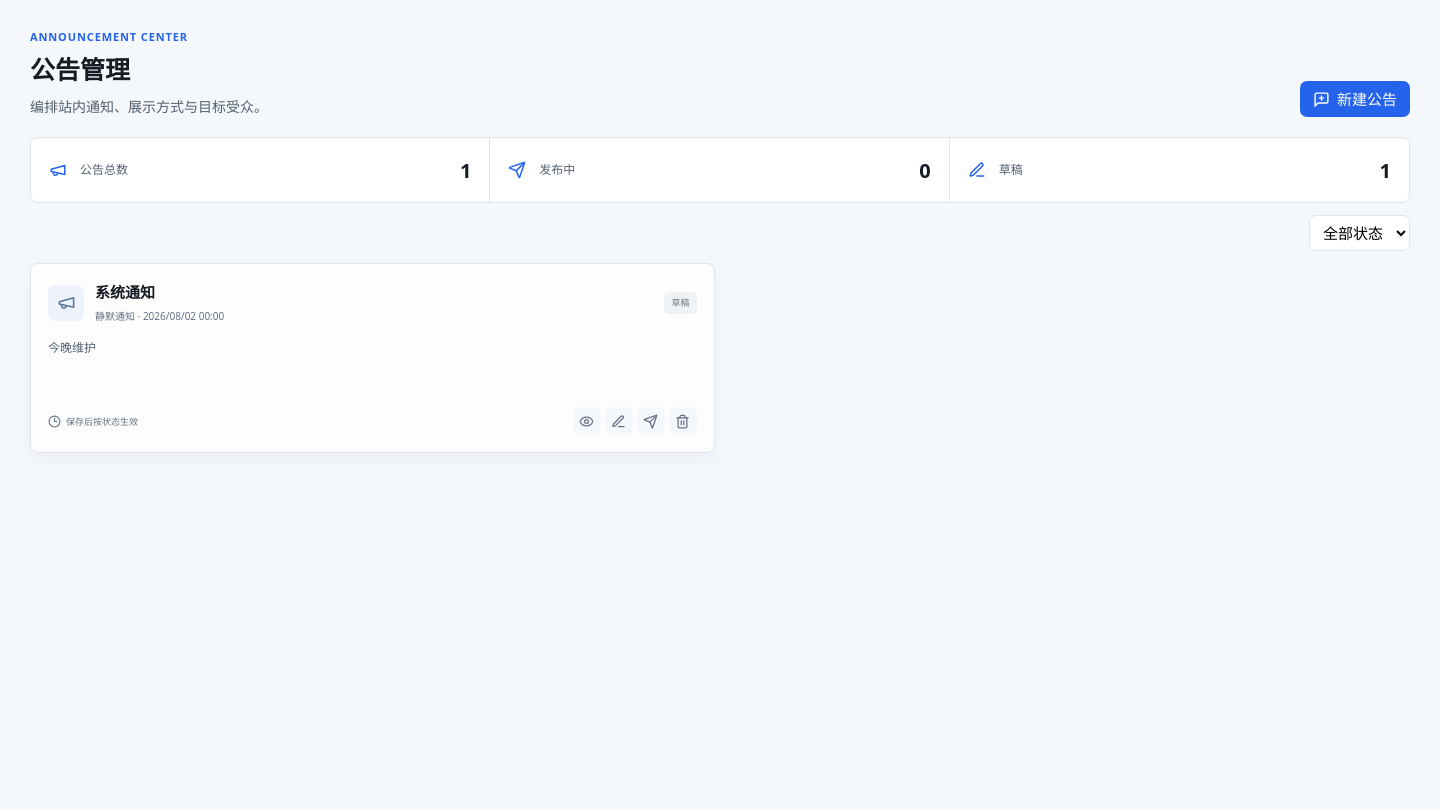
Test case: AdminAnnouncementsView › keeps the editor open and exposes a failed save inline and by toast
The width and height of the screenshot is (1440, 810).
Click the button with test id "create-announcement".
click(1355, 100)  # box [1300,82,1410,118]
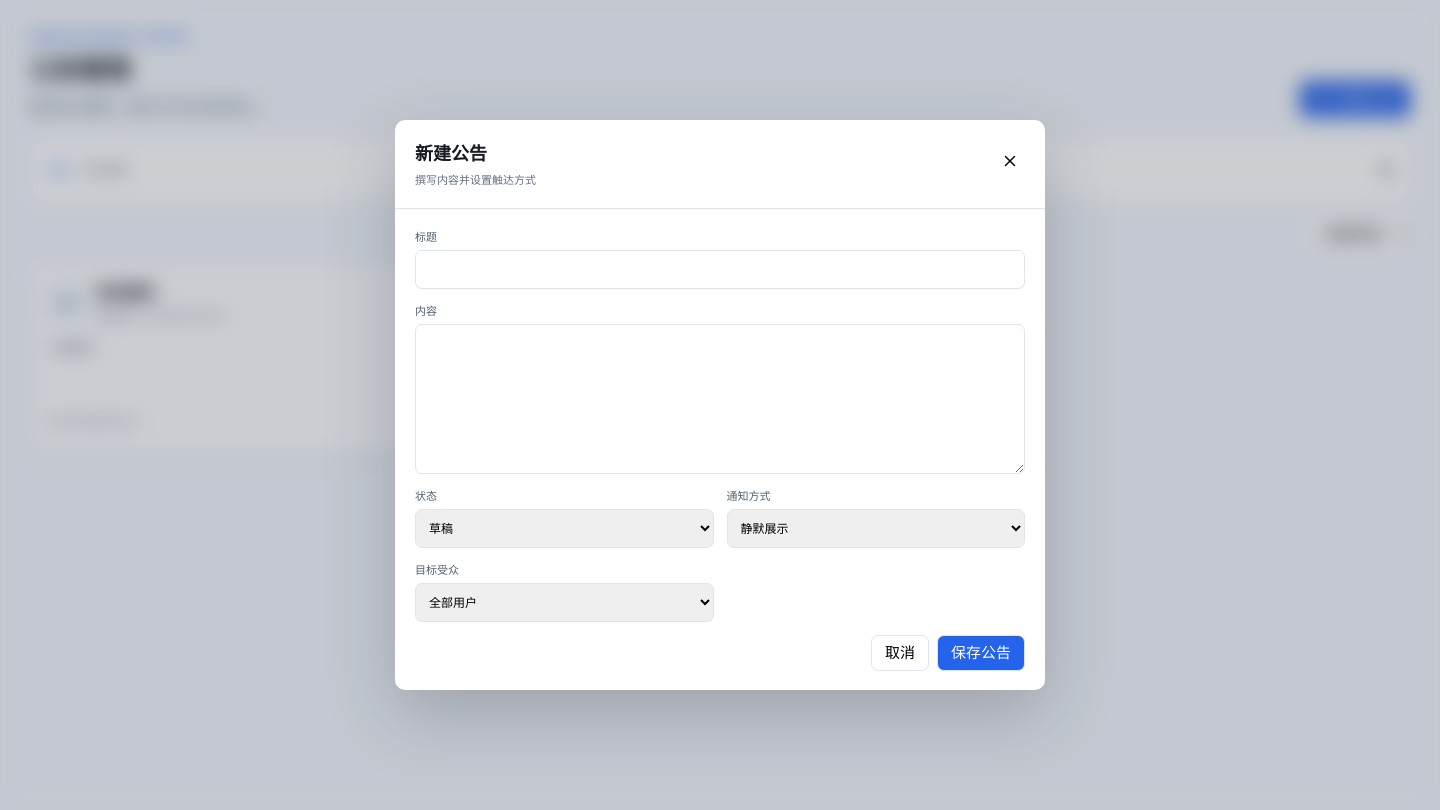
Type "New notice" into the field with test id "announcement-title".
click(720, 269); type("New notice")  # box [415,250,1025,289]
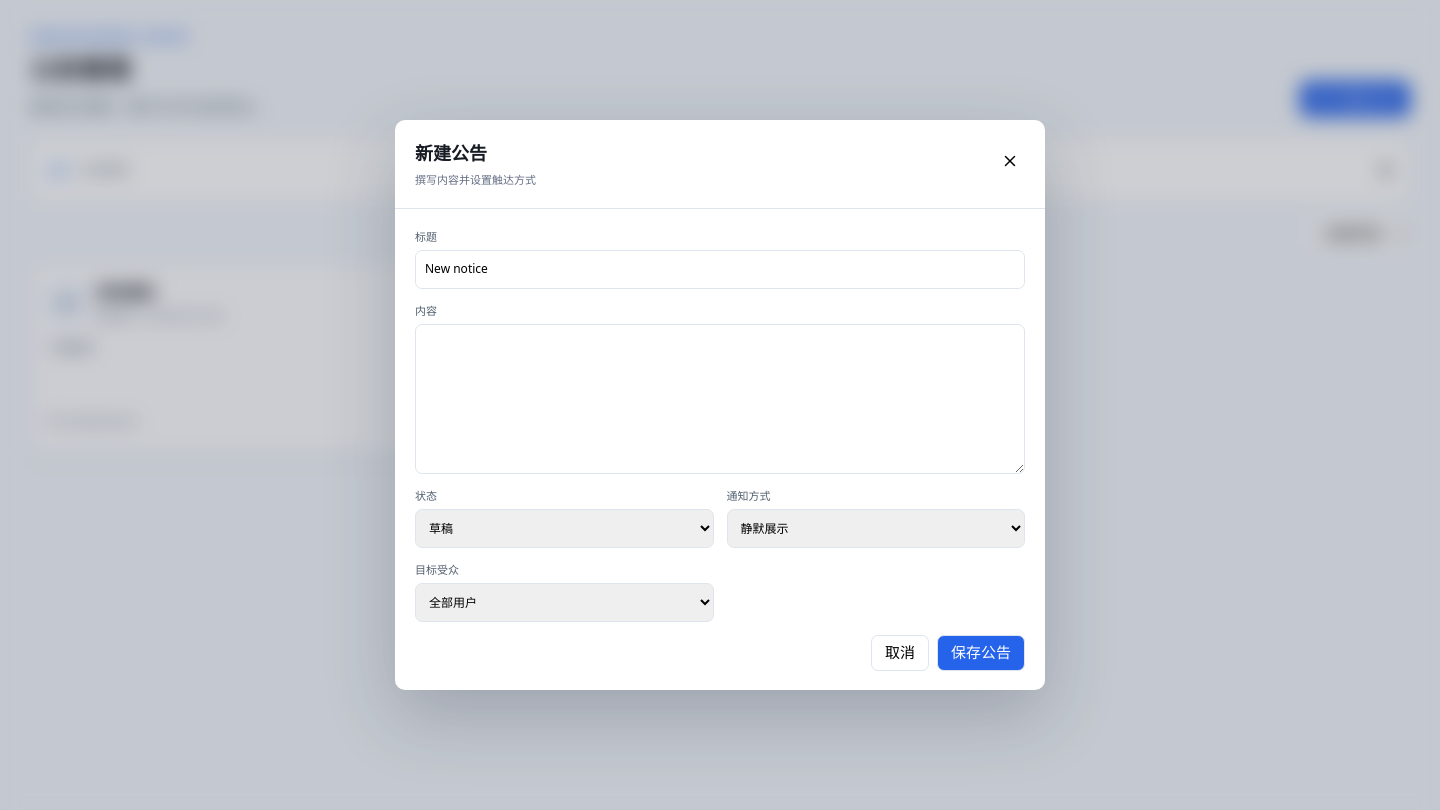
Type "Hello" into the text box with test id "announcement-content".
click(720, 399); type("Hello")  # box [415,324,1025,474]
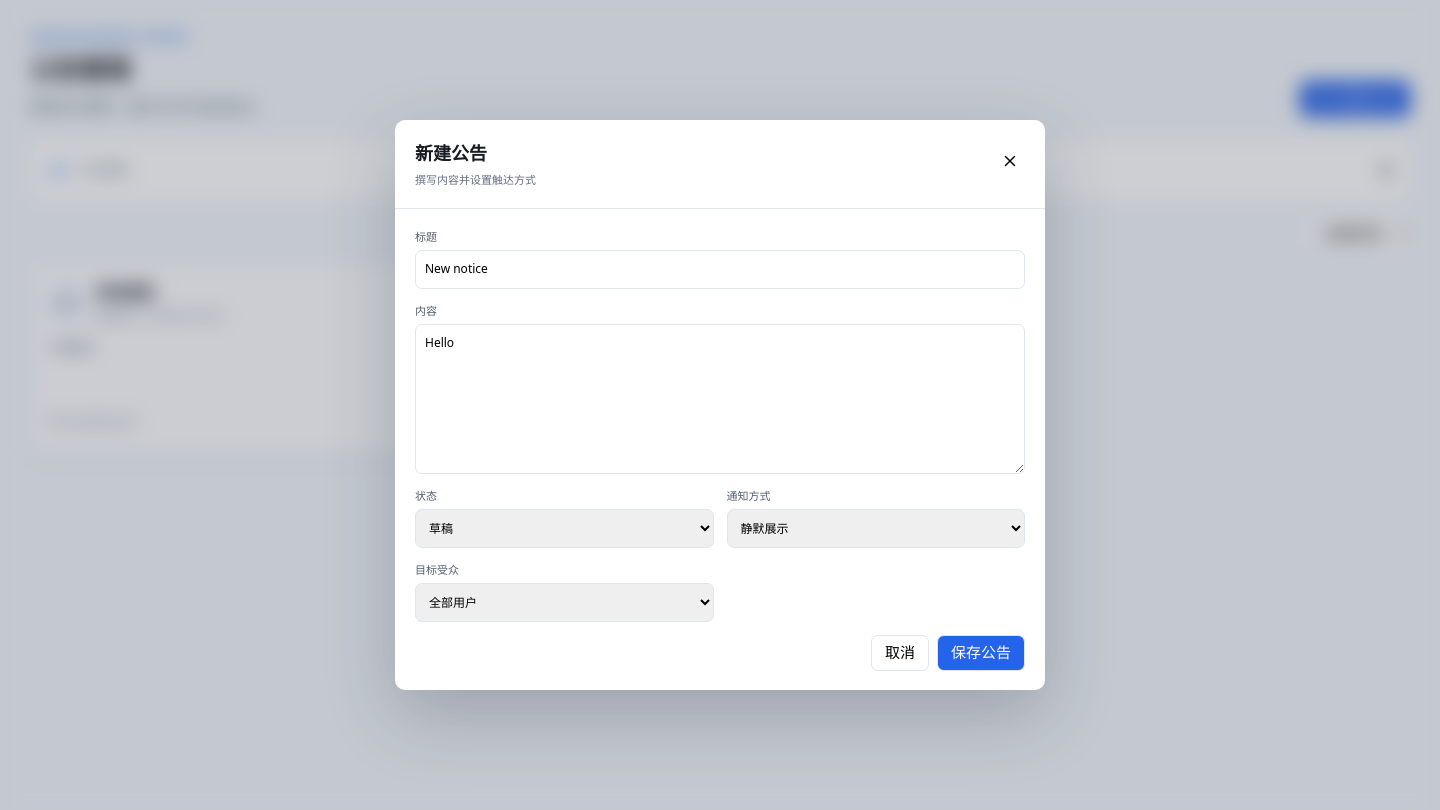
Submit the form with test id "announcement-editor", box [395,209,1045,690]
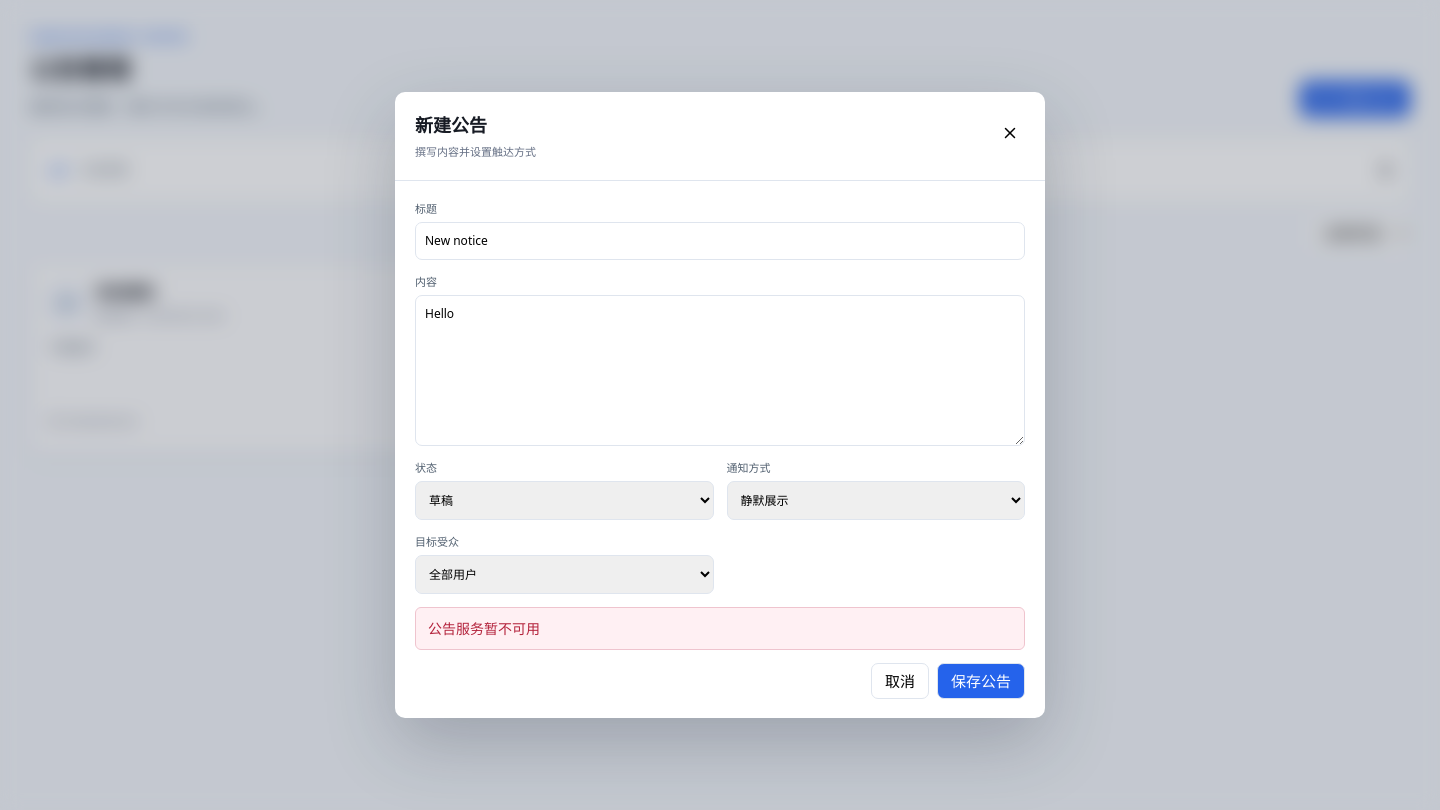
Result: the form with test id "announcement-editor" is shown at [395,181,1045,718]
Result: the message with test id "announcement-editor-error" reads "公告服务暂不可用" at [428,619,540,638]
